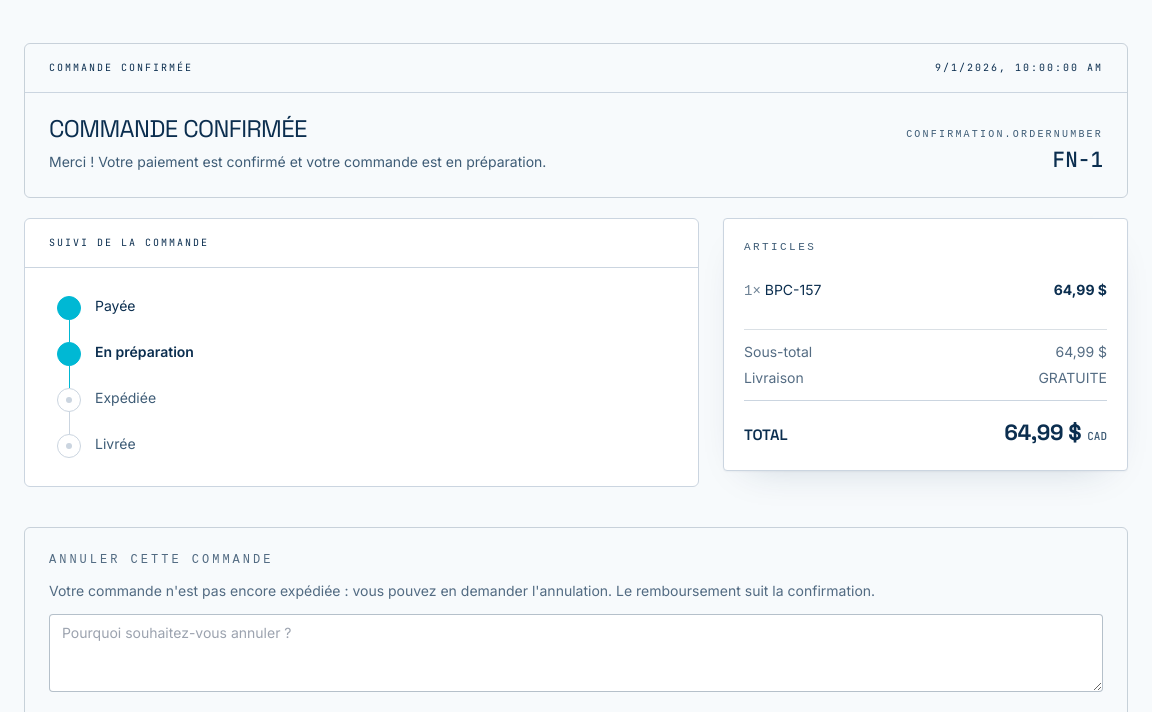
refuse une demande vide sans appeler le serveur
This screenshot has width=1152, height=712.
In the text box with test id "refund-reason": point(576, 653) [49,614,1103,692], type "non"
(page scrolled)
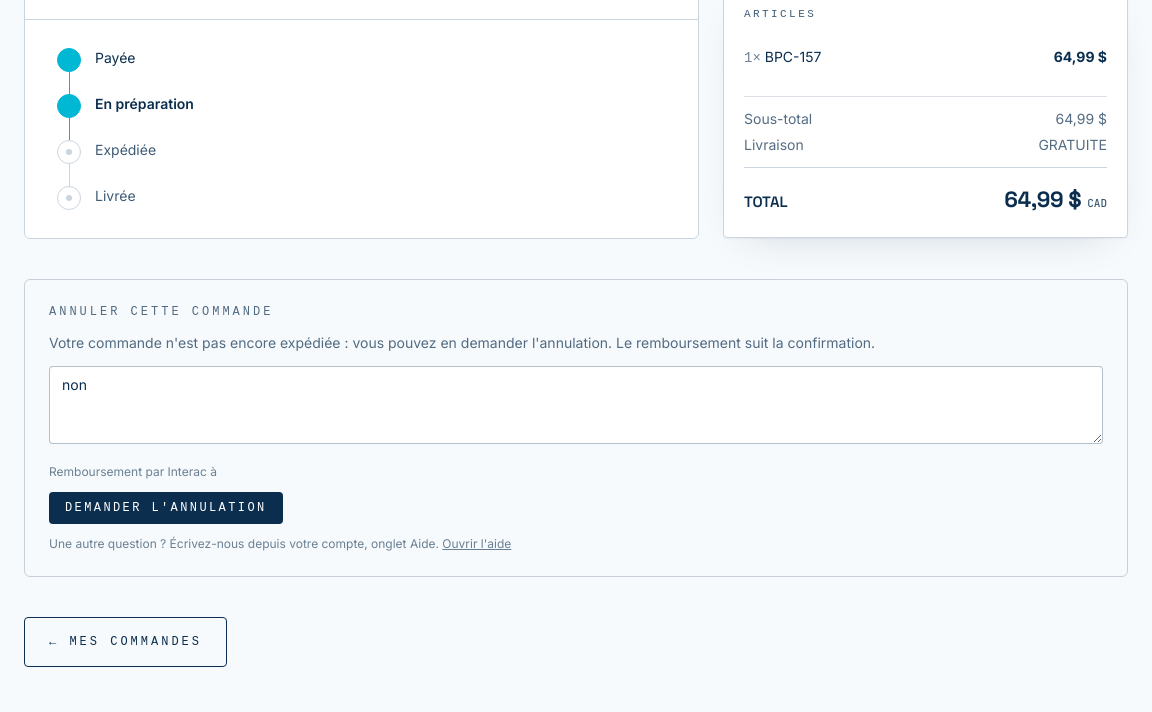
Click the button with test id "refund-submit": point(166, 508) [49,492,283,524]
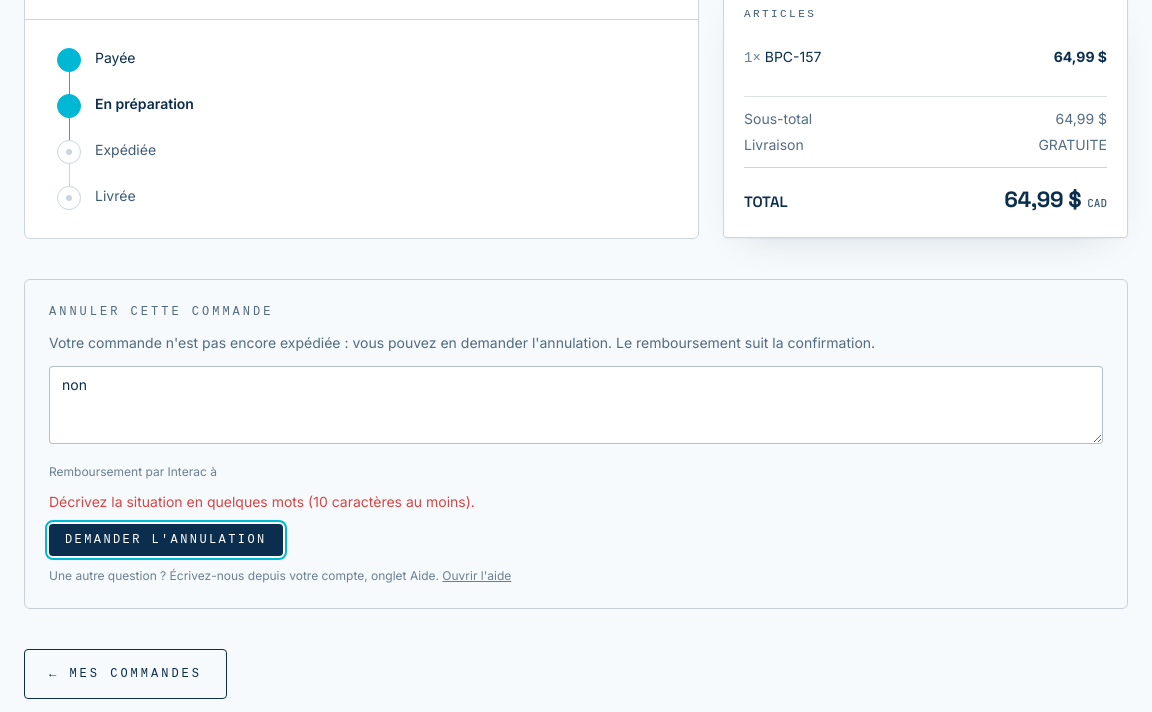
Expected: the text with test id "refund-error" is shown, [49,493,475,510]
